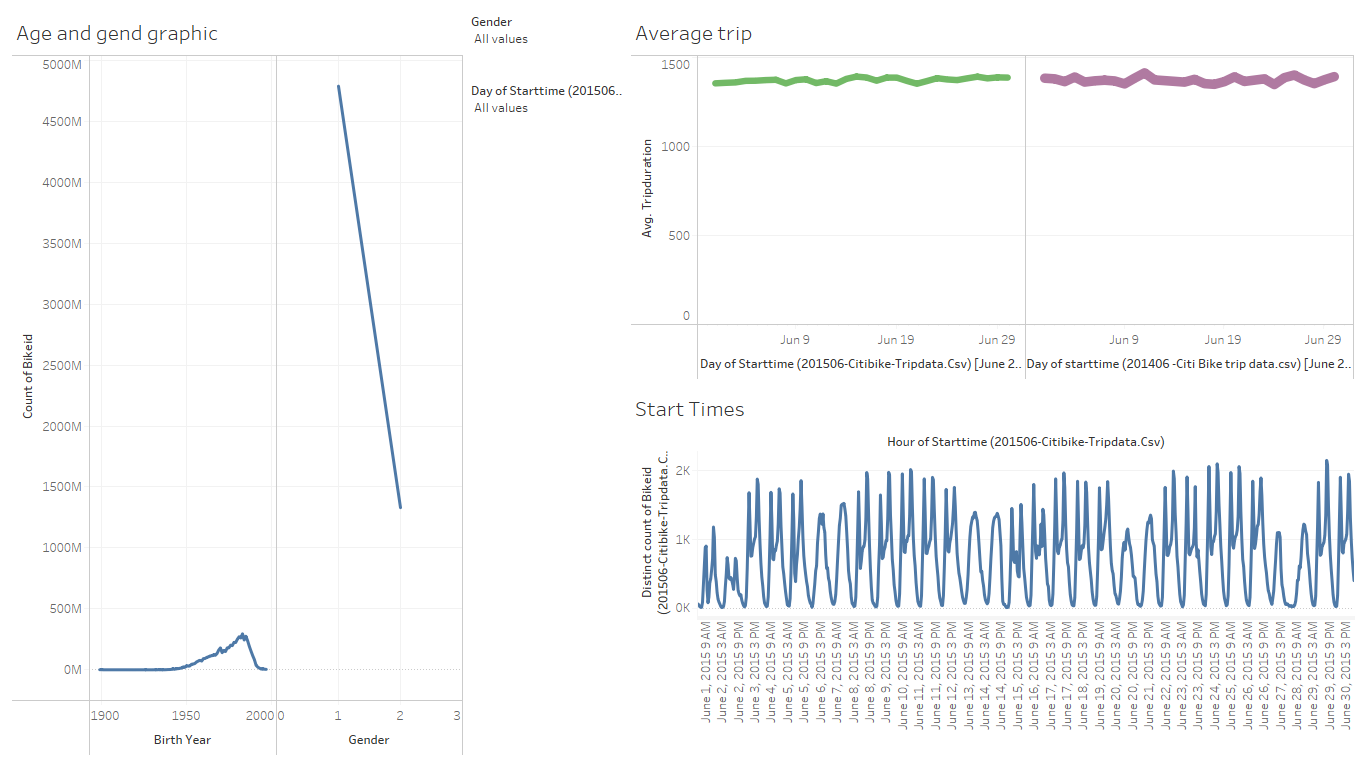

Layout of this report page (visuals, bound fields, positions):
{"tool":"tableau","page":{"name":"Dashboard 1","canvas":[1366,768],"ordinal":0},"visuals":[{"type":"worksheet","title":"Age and gend graphic","mark":"Automatic","rows":["bikeid"],"cols":["birth year","gender"],"box":[8,8,459,752]},{"type":"filter","title":"Age and gend graphic","param":"[federated.1ong9pr16lo4gl1emk6070imytik].[none:gender:qk]","box":[467,8,160,69]},{"type":"worksheet","title":"Average trip","mark":"Automatic","rows":["tripduration"],"cols":["starttime (201506-citibike-tripdata.csv)","starttime (201406 -Citi Bike trip data.csv)"],"box":[627,8,731,376]},{"type":"filter","title":"Average trip","param":"[federated.1ong9pr16lo4gl1emk6070imytik].[tdy:starttime (201506-citibike-tripdat","box":[467,77,160,69]},{"type":"worksheet","title":"Start Times","mark":"Automatic","rows":["bikeid (201506-citibike-tripdata.csv)"],"cols":["starttime (201506-citibike-tripdata.csv)"],"box":[627,384,731,376]}]}

Visuals, with their boxes in screenshot pixels (x1, y1, x2, y2), scaled from the page's 1366x768 canvas onto the 1366x768 screenshot:
"Age and gend graphic" worksheet: {"left": 8, "top": 8, "right": 467, "bottom": 760}
"Age and gend graphic" filter: {"left": 467, "top": 8, "right": 627, "bottom": 77}
"Average trip" worksheet: {"left": 627, "top": 8, "right": 1358, "bottom": 384}
"Average trip" filter: {"left": 467, "top": 77, "right": 627, "bottom": 146}
"Start Times" worksheet: {"left": 627, "top": 384, "right": 1358, "bottom": 760}
